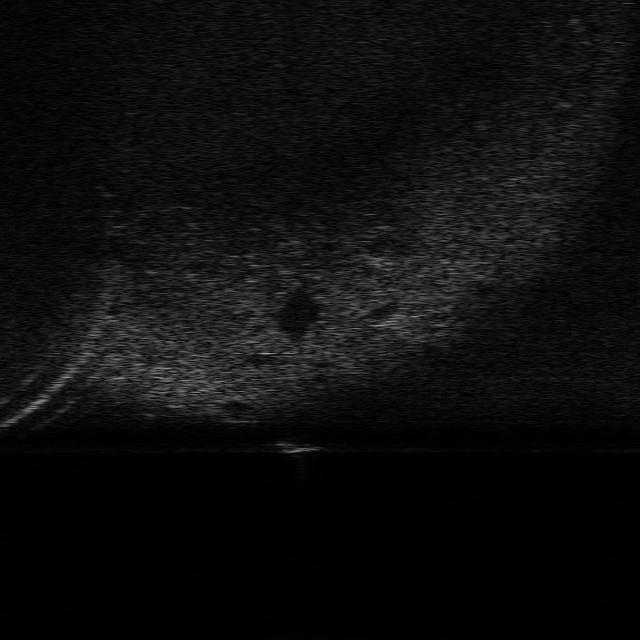cube: (268, 435, 324, 458)
